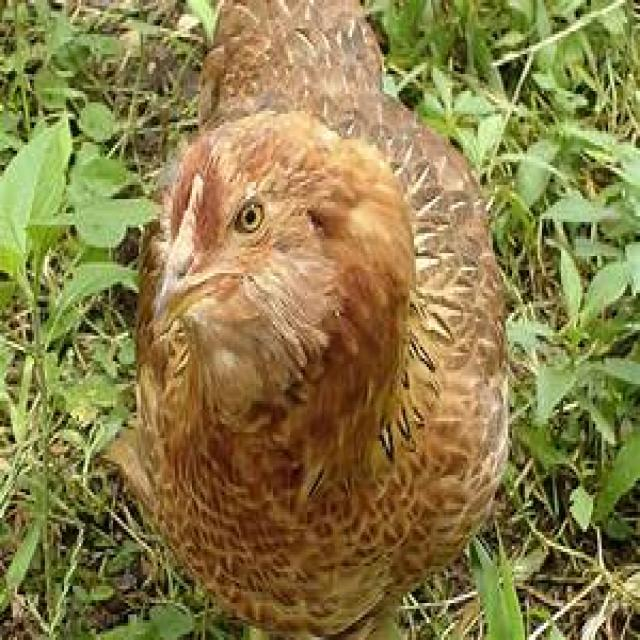hen: (102, 0, 512, 640)
